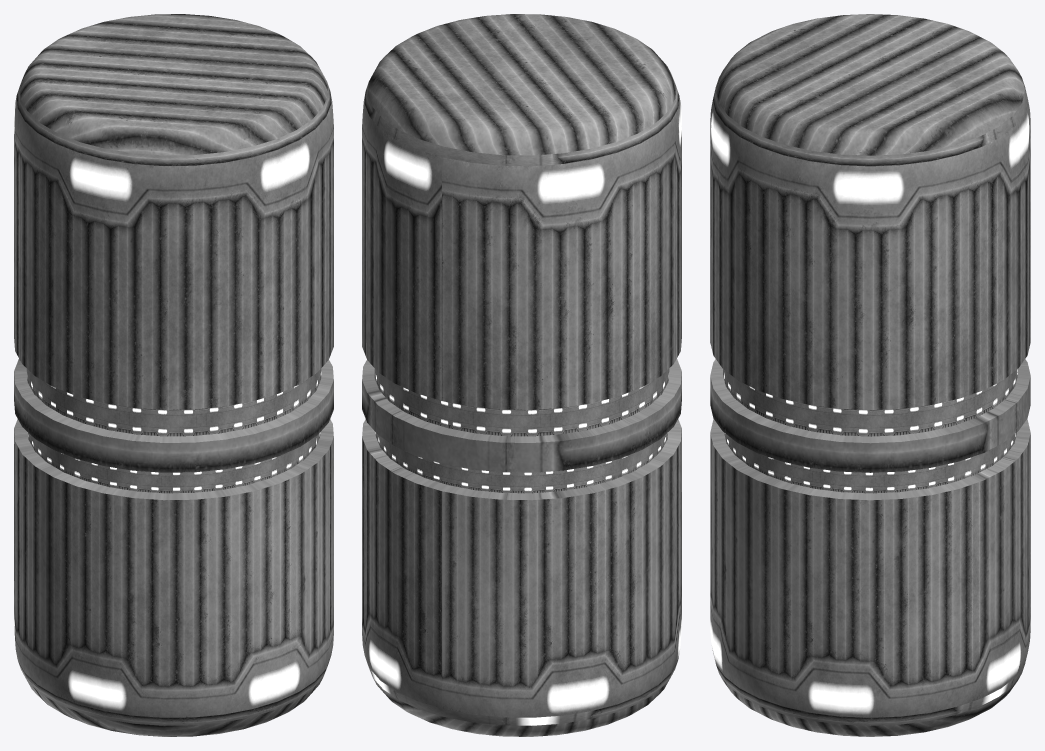
The model's file is Cylinder_Fill.fbx.
3 views of the same model, side by side, from view 1: azimuth 30°, elevation 25°; view 2: azimuth 150°, elevation 25°; view 3: azimuth 270°, elevation 25° (orthographic).
Parts seen in each view (by area): view 1: Cylinder; view 2: Cylinder; view 3: Cylinder.
Boxes of the visible parts, x1,y1,x2,y2 form: Cylinder: [14, 14, 333, 736]; Cylinder: [362, 14, 681, 736]; Cylinder: [710, 14, 1030, 736].
Bounding box in the file's own units: 200 × 418 × 200.
Materials: 1 (1 with a texture image).
